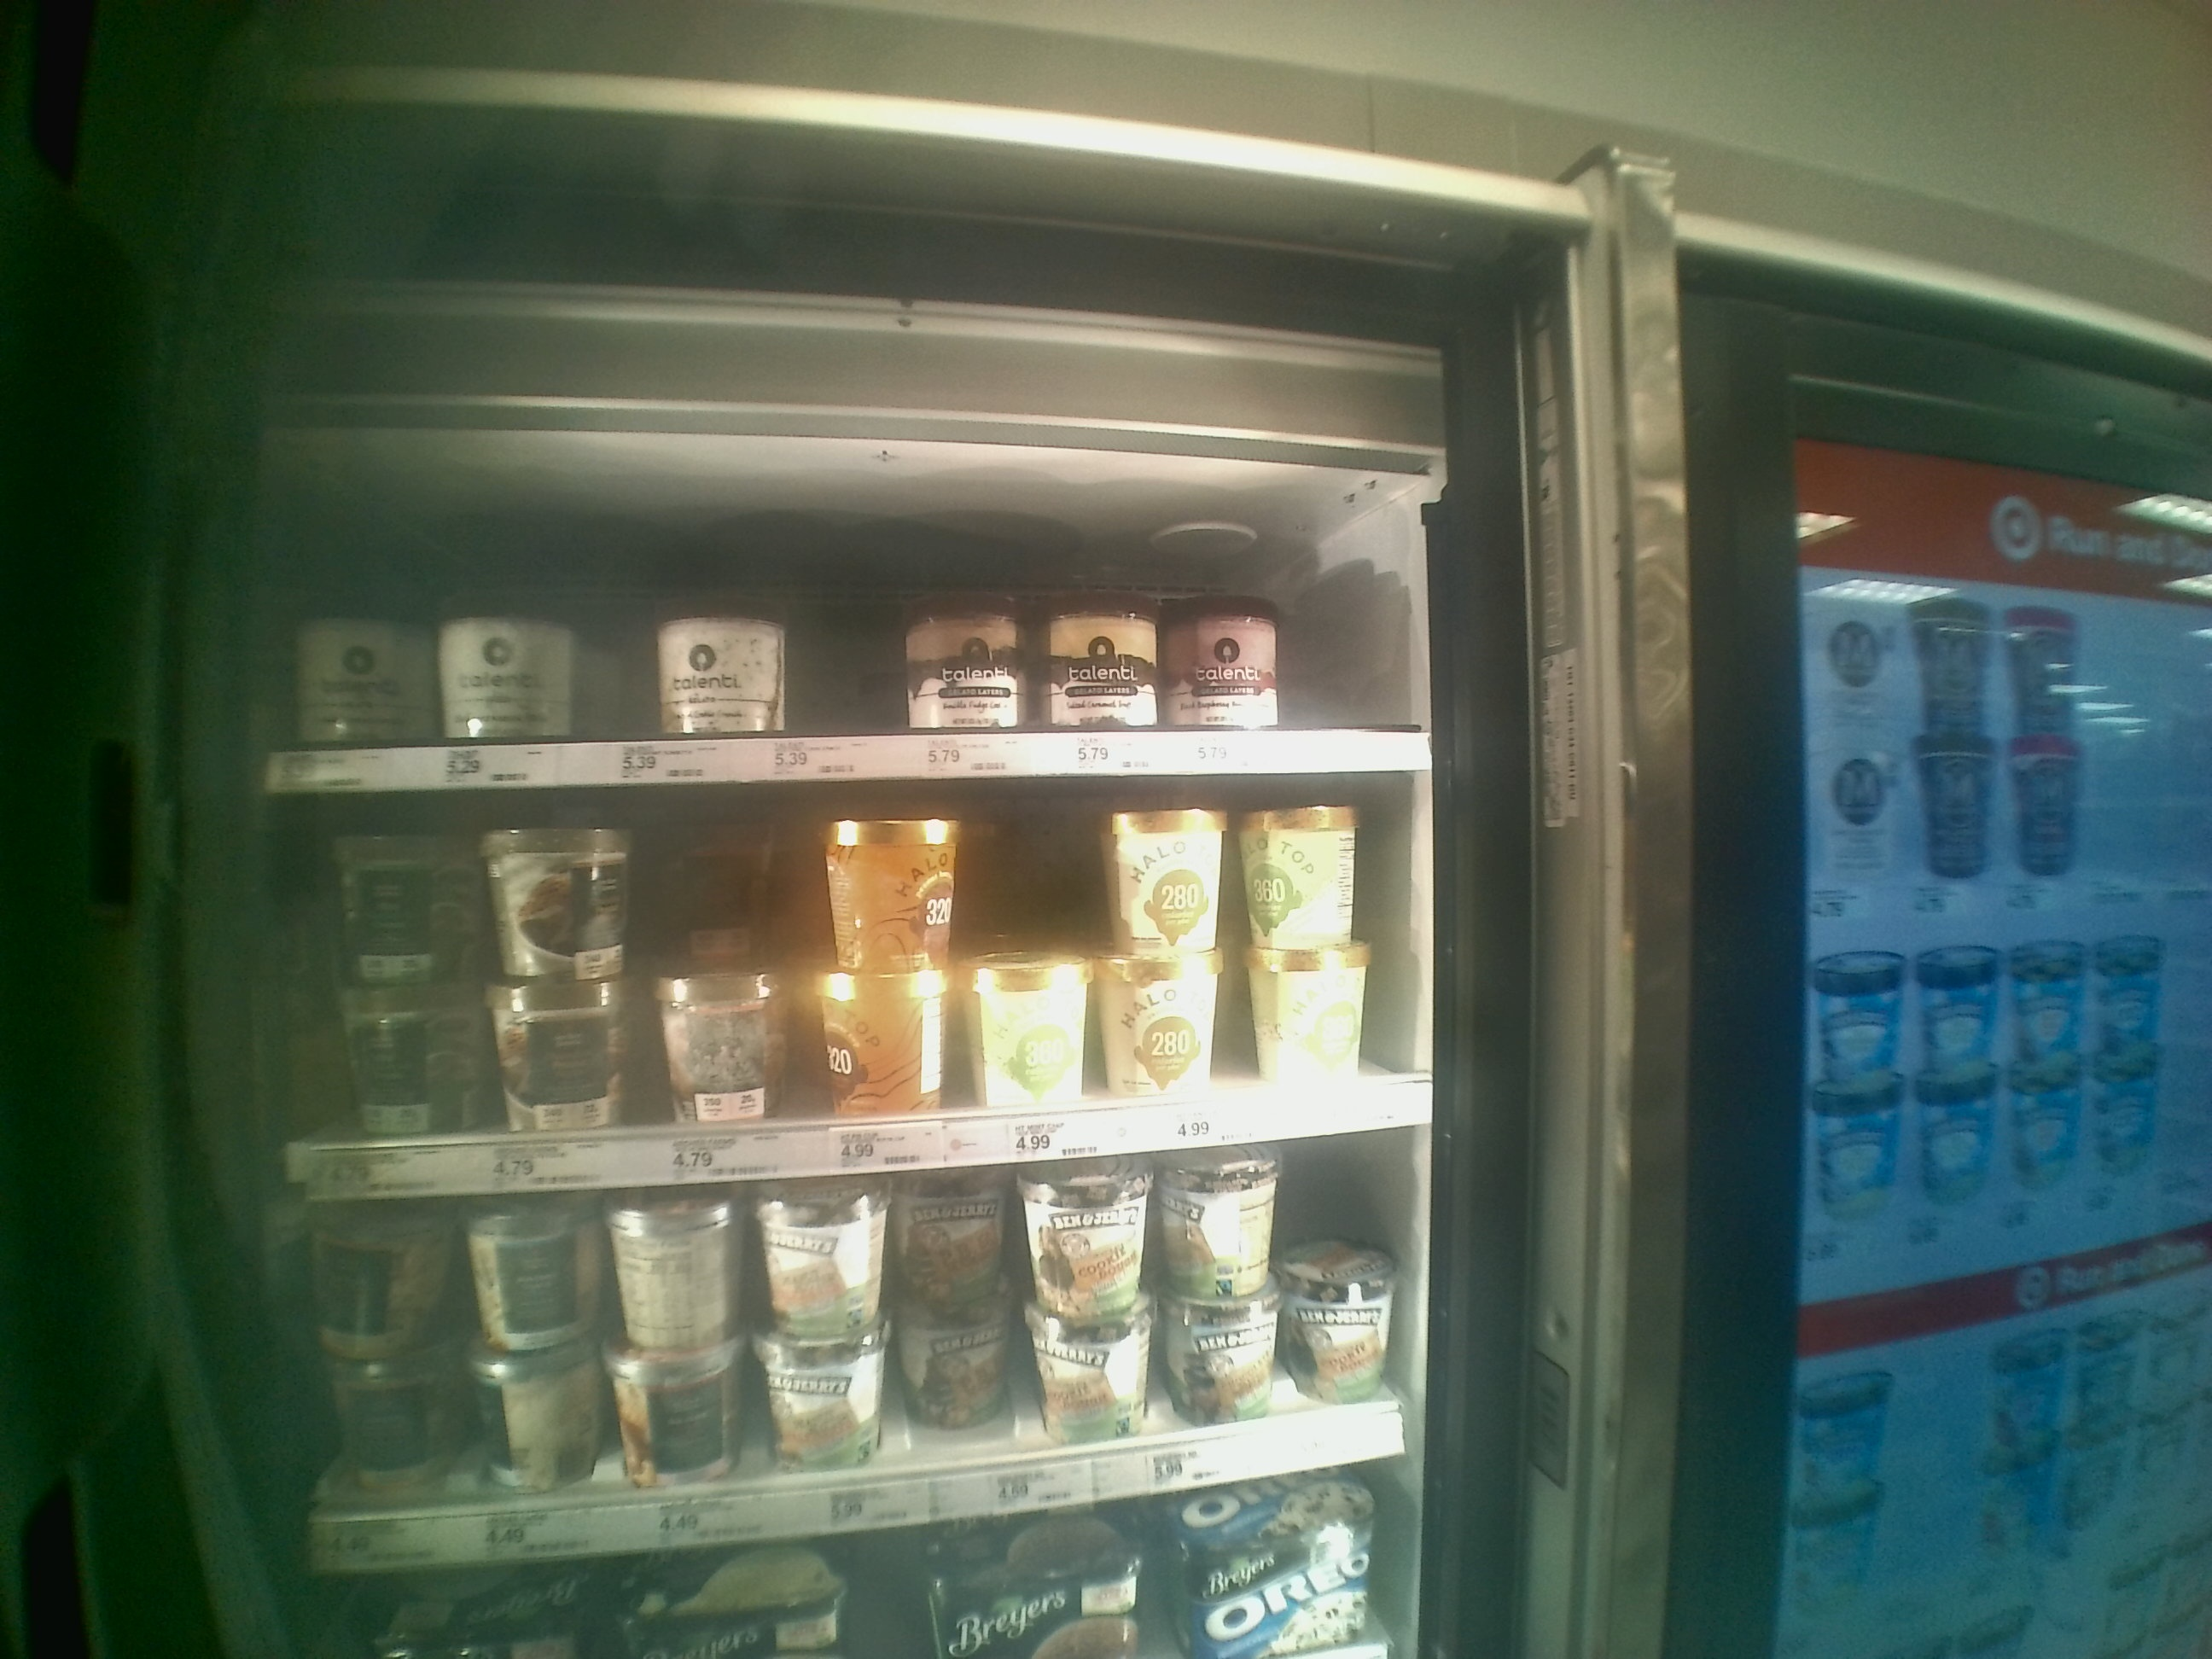shelf: (261, 779, 1430, 1162), (284, 1180, 1409, 1567), (265, 451, 1421, 770)
